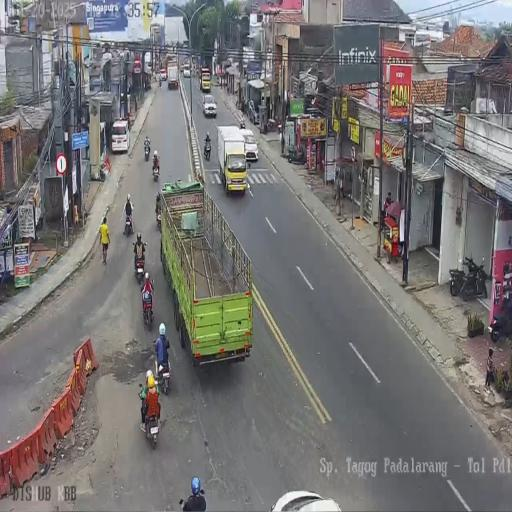car: (111, 117, 130, 153), (241, 129, 257, 164), (202, 92, 216, 118), (246, 100, 260, 124), (159, 68, 167, 82), (184, 66, 190, 78), (180, 62, 184, 72)
motorcycle: (450, 253, 488, 301), (489, 297, 512, 343), (142, 398, 161, 448), (156, 353, 172, 395), (141, 288, 154, 326), (286, 145, 305, 165), (134, 251, 145, 284), (124, 212, 134, 236), (203, 138, 211, 161), (152, 158, 160, 181), (144, 140, 150, 160), (156, 208, 161, 232), (277, 120, 282, 138), (240, 116, 246, 129), (158, 78, 162, 88)
truck: (160, 179, 253, 370), (217, 125, 248, 195), (167, 65, 179, 90), (200, 66, 211, 92)
